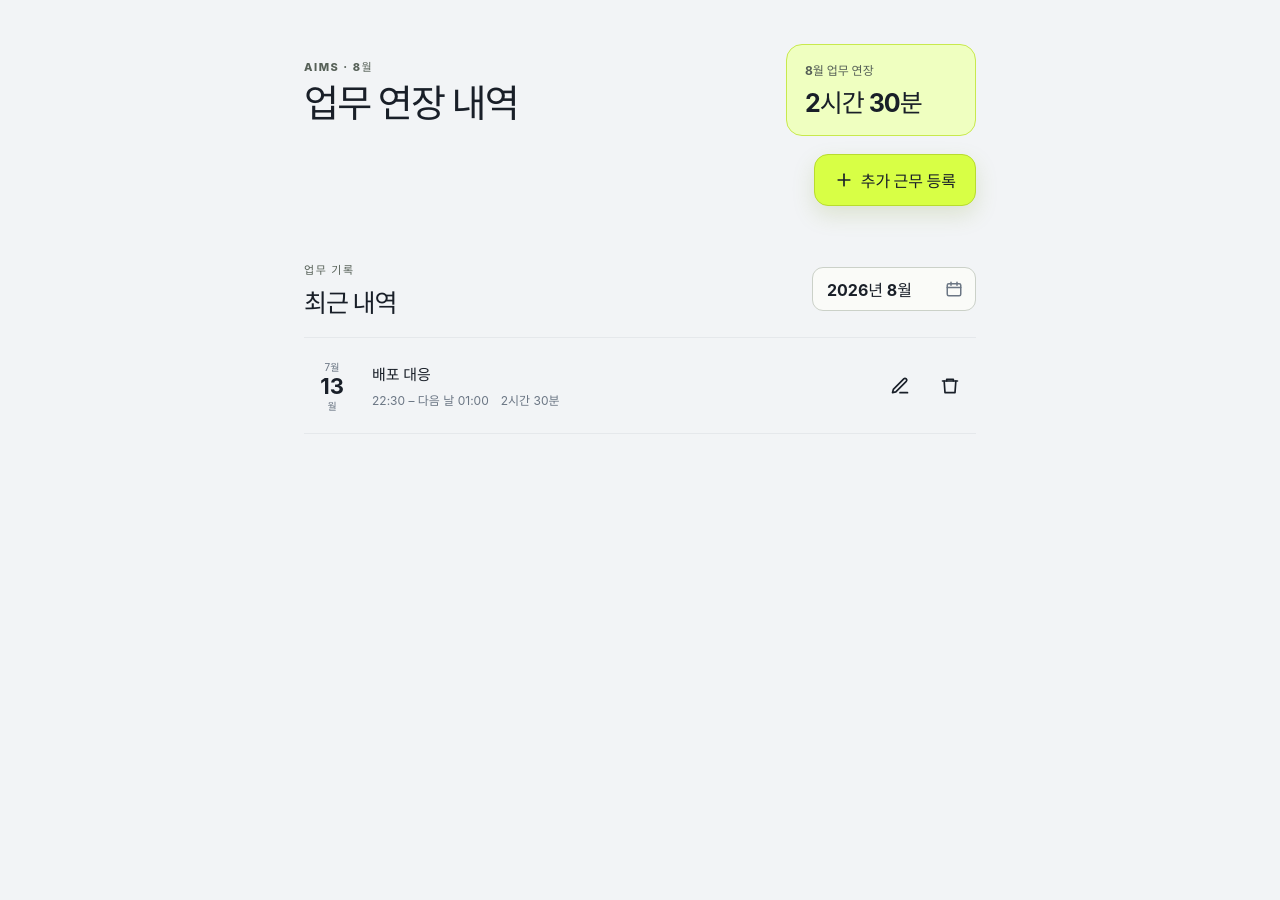
Test: OvertimePage › keeps the current records visible while another month is loading
Expected: the text "배포 대응" is shown, [372, 365, 431, 384]
What coordinates should you click on to do the following:
click the button named "조회 월"
I would click on:
 (894, 288)
Its box is [812, 266, 976, 310].
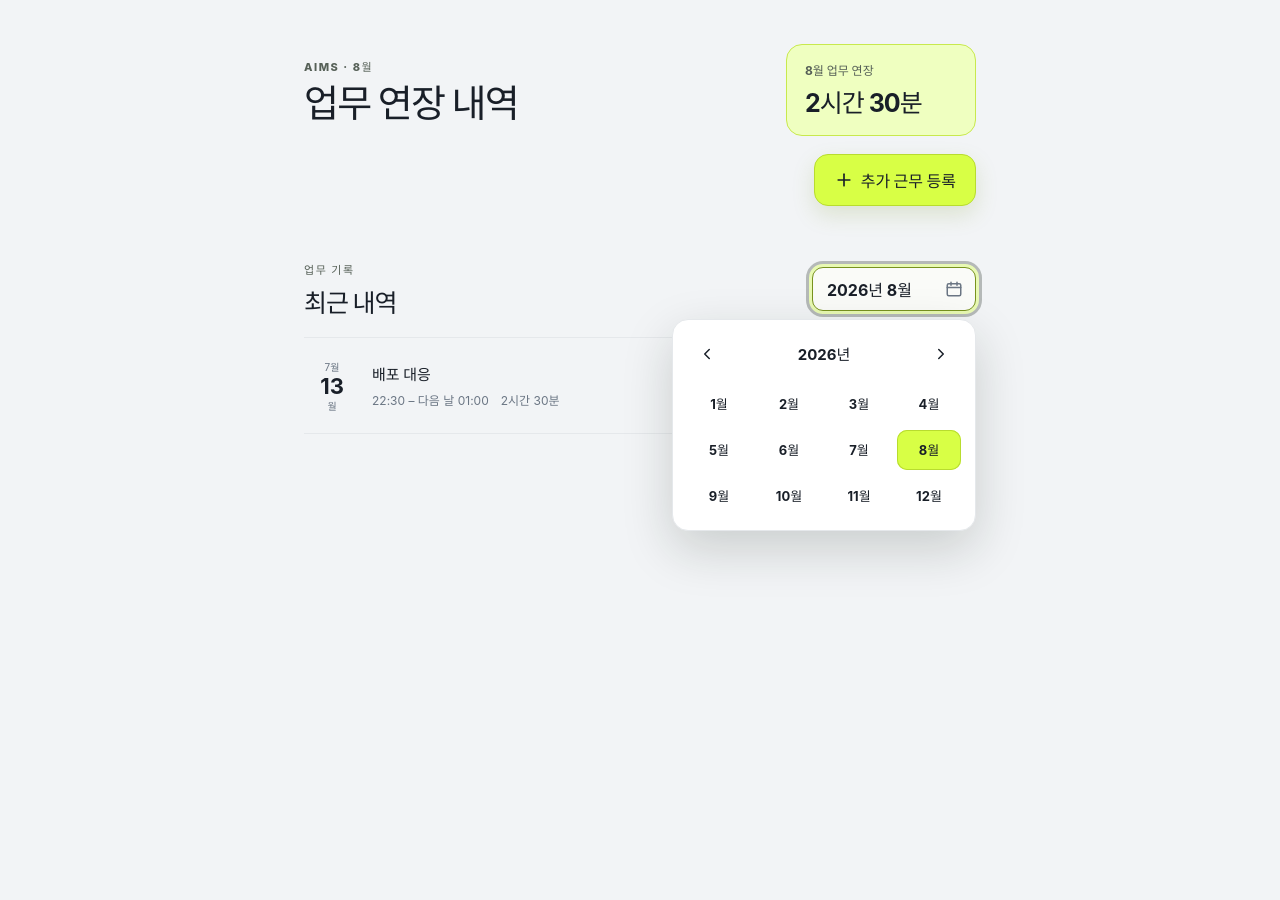
What coordinates should you click on to do the following:
click the button named "2026년 6월 선택"
I would click on:
 (789, 450)
Its box is [757, 430, 821, 470].
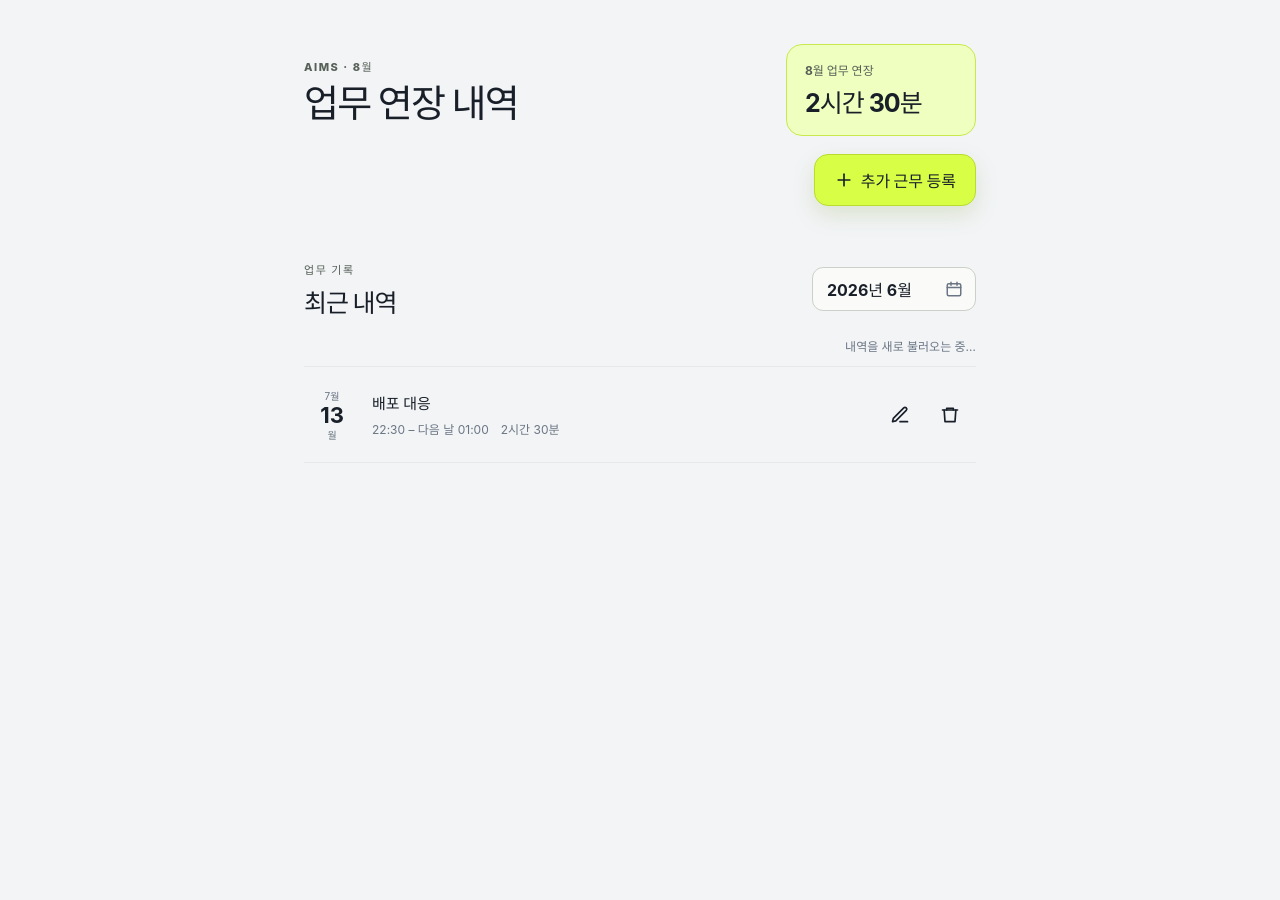
Expected: the text "배포 대응" is shown, [372, 394, 431, 413]
Now the message named "다른 달 내역을 불러오는 중" is shown, box [845, 339, 976, 354]
